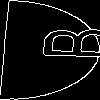B: (24, 25, 100, 61)
